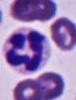N: (2, 26, 50, 74)
